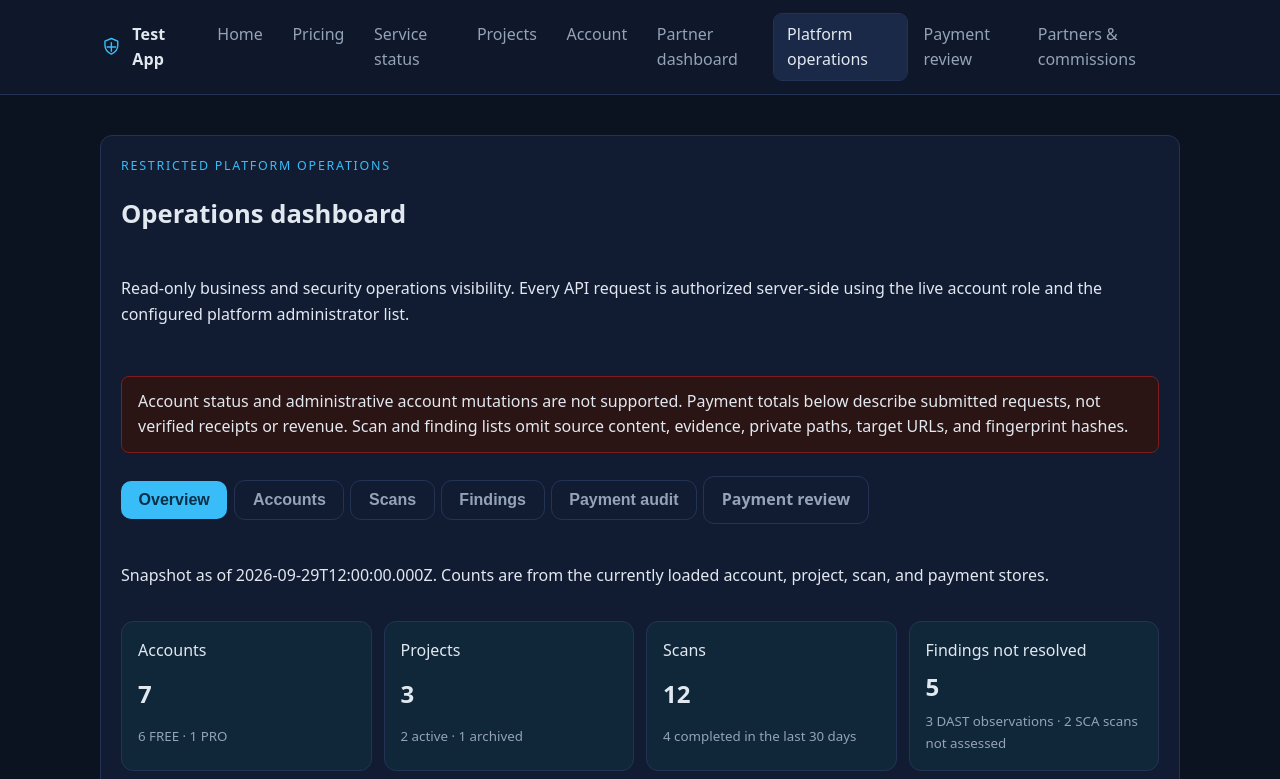
it: platform operations dashboard UI › shows read-only bounded account data and explicit audit scope
What coordinates should you click on to do the following:
click the button "Accounts"
I would click on:
 (289, 500)
Its box is [235, 481, 343, 519].
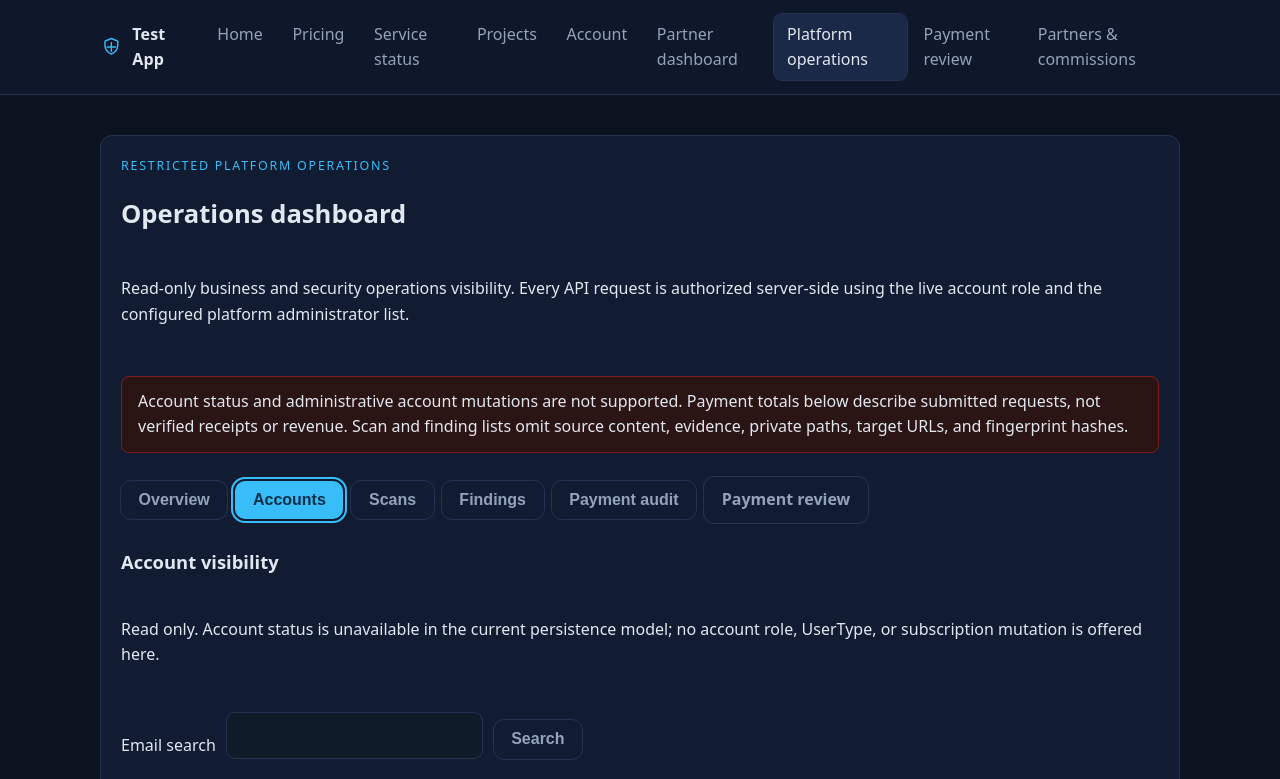
Result: the text "no account role, UserType, or subscription mutation" is shown at [121, 618, 1142, 665]
What coordinates should you click on to do the following:
click the button "Payment audit"
I would click on:
 (624, 500)
Its box is [552, 481, 696, 519].
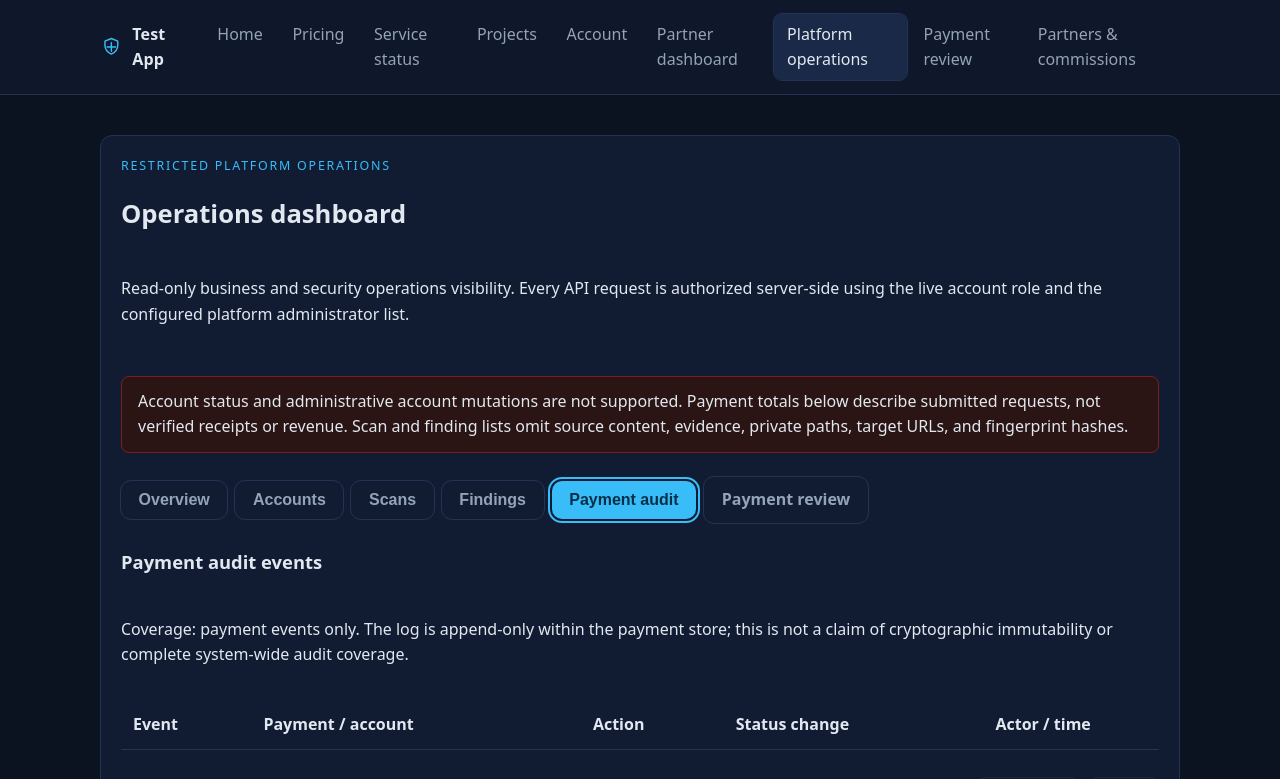
Result: the text "Coverage: payment events only" is shown at [121, 618, 1113, 665]
